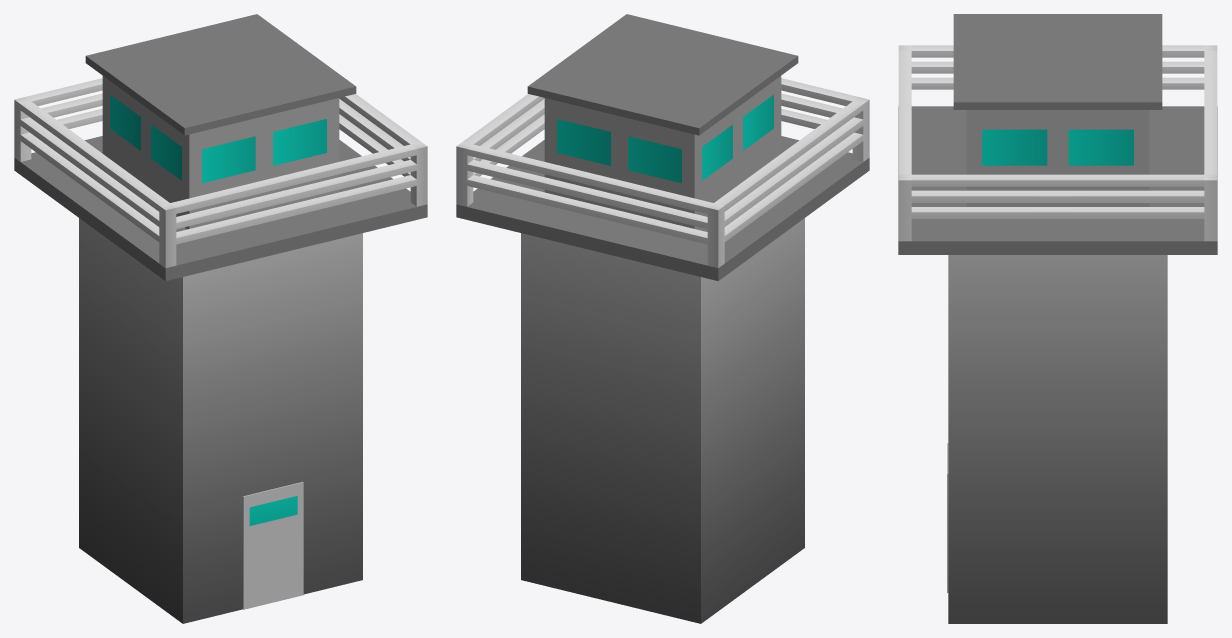
Rendered from SM_Bld_ControlTower.fbx.
3 renders of one model, left to right at view 1: azimuth 30°, elevation 25°; view 2: azimuth 150°, elevation 25°; view 3: azimuth 270°, elevation 25°, orthographic. The views are drawn at different scales.
Visible parts, largest first — view 1: SM_Bld_ControlTower; view 2: SM_Bld_ControlTower; view 3: SM_Bld_ControlTower.
Boxes of the visible parts, x1,y1,x2,y2 form: SM_Bld_ControlTower: (14,14,427,623); SM_Bld_ControlTower: (456,14,869,623); SM_Bld_ControlTower: (898,14,1217,623).
Size of the model in its own units: 7.29 by 13.09 by 7.29.
